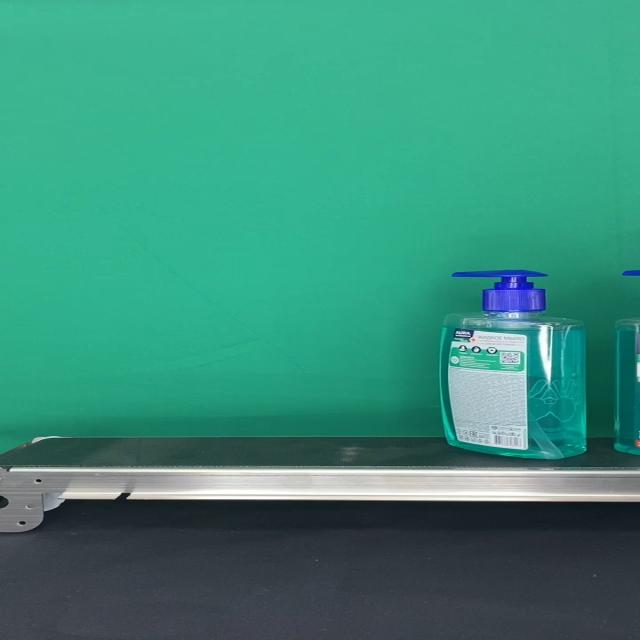Bottle: (439, 270, 586, 459)
Cap: (452, 270, 549, 312)
